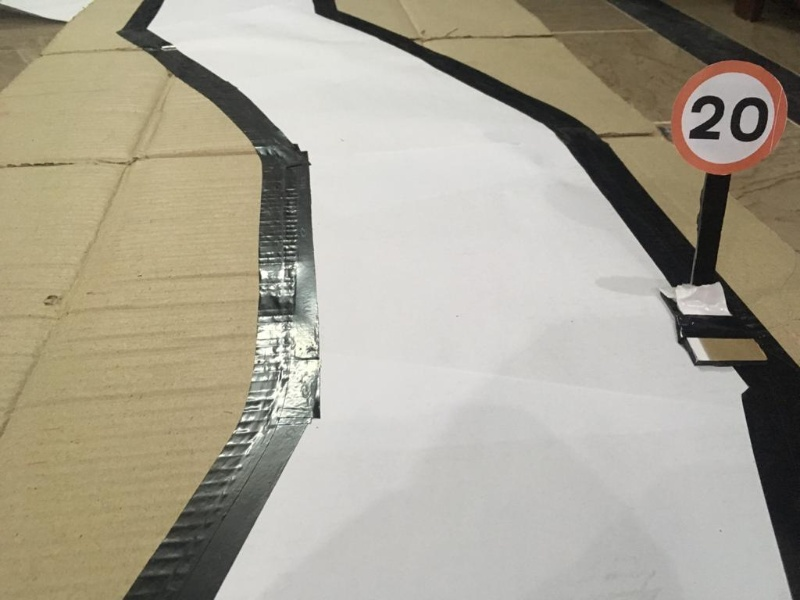Speed Limit 20: (676, 55, 787, 174)
